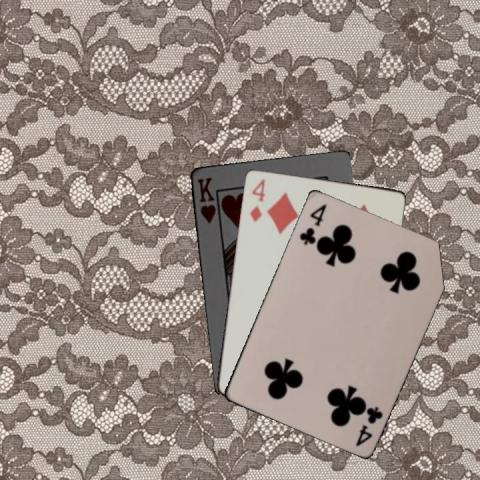4c: (296, 200, 328, 246), (352, 403, 384, 447)
4d: (246, 176, 267, 224)
Kh: (193, 174, 218, 225)
